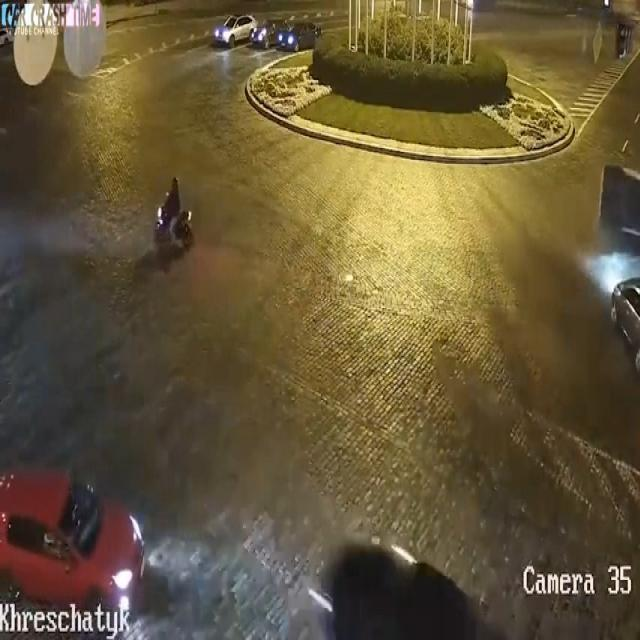Accident: (605, 151, 640, 343)
